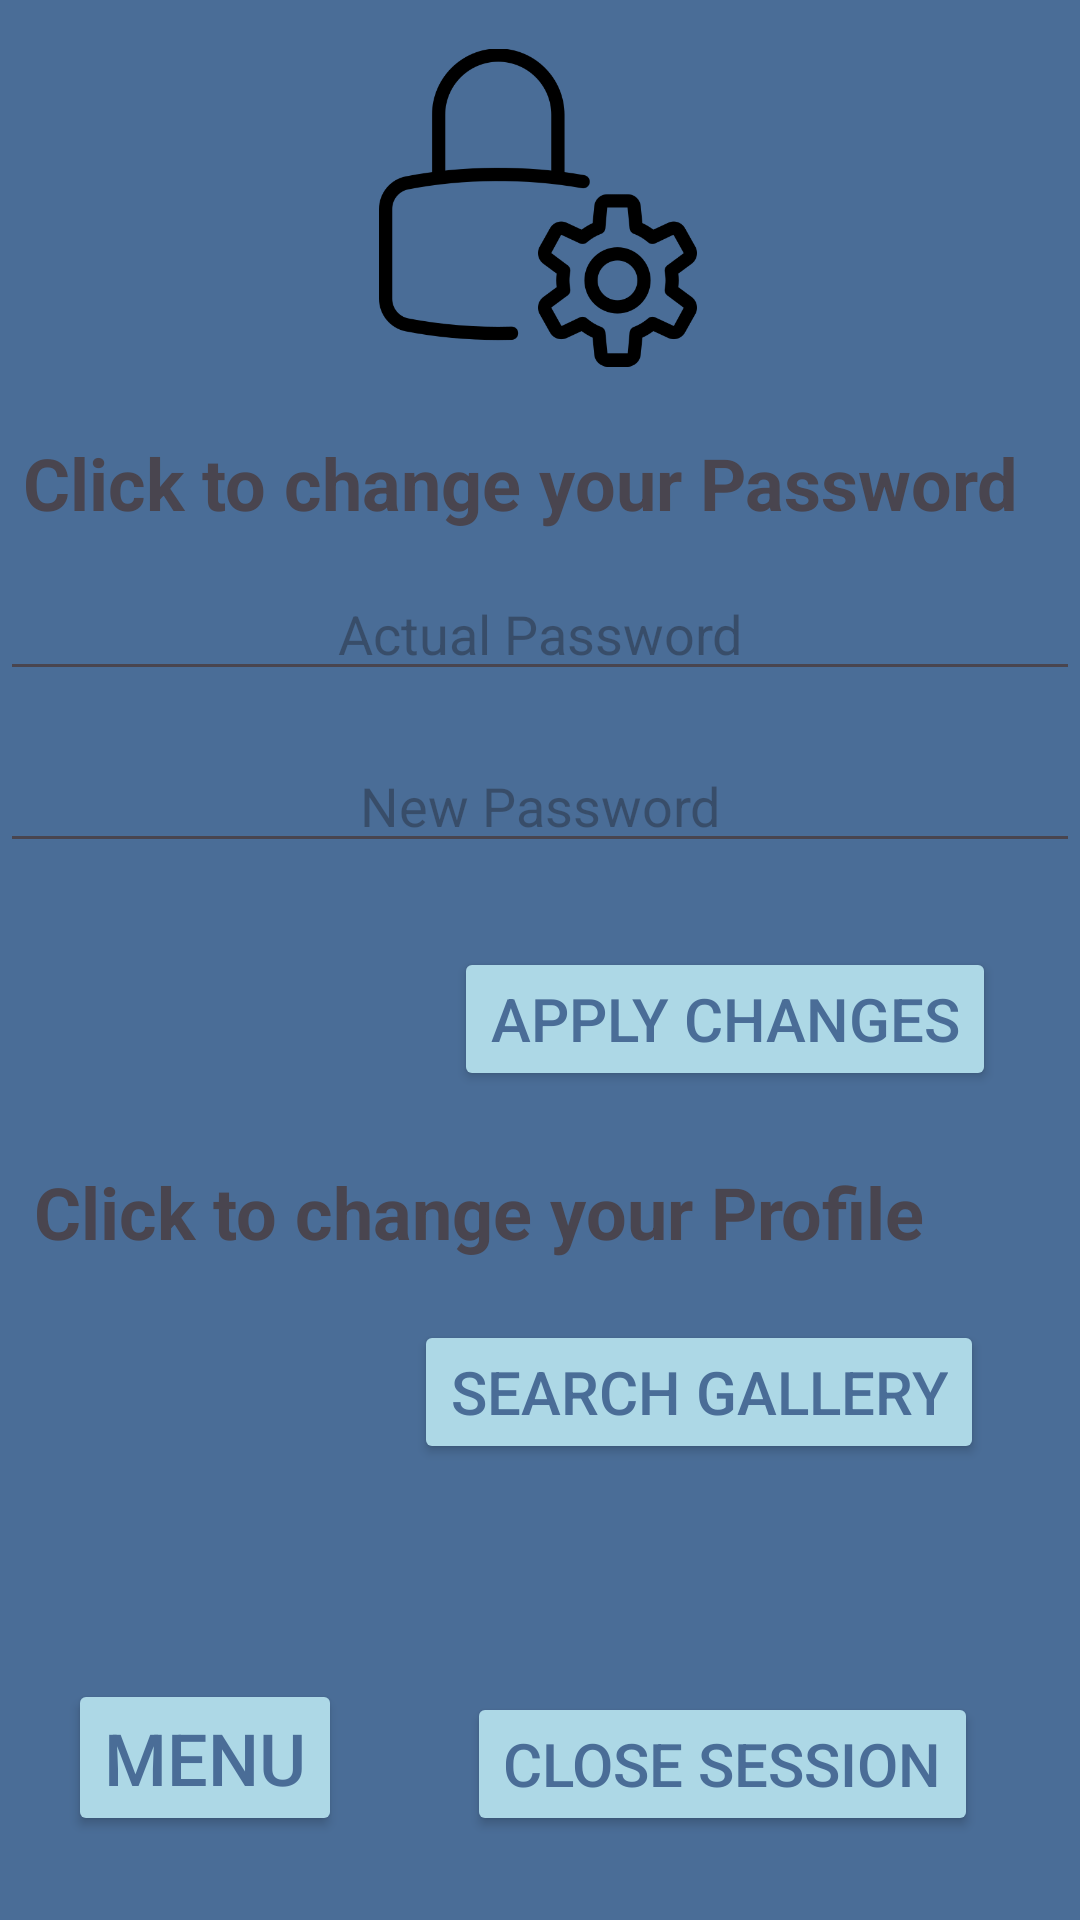

Icons on this 1080x1920 Android screen, each with the point to tap as point (x, y):
locked: point (538, 208)
